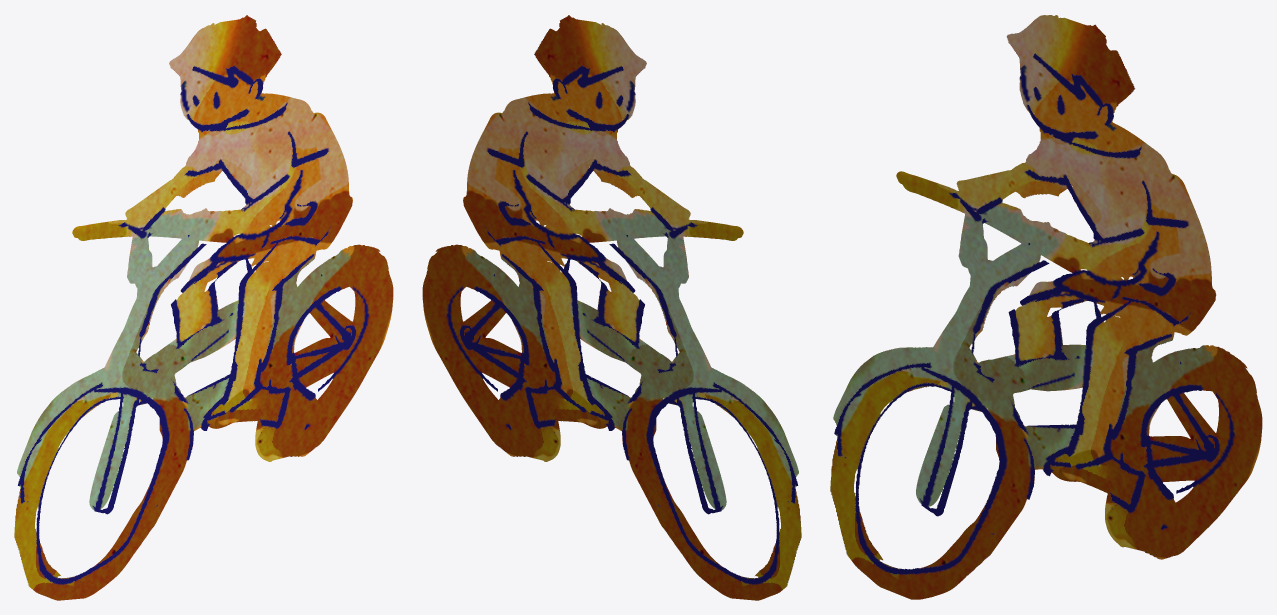
Rendered from people_04.fbx.
3 views of the same model, side by side, from view 1: azimuth 30°, elevation 25°; view 2: azimuth 150°, elevation 25°; view 3: azimuth 330°, elevation 25° (orthographic). The views are drawn at different scales.
Visible parts, largest first — view 1: people_04; view 2: people_04; view 3: people_04.
Boxes of the visible parts, bbox=[...] form: people_04: bbox=[14, 15, 393, 600]; people_04: bbox=[422, 15, 801, 600]; people_04: bbox=[830, 15, 1262, 599].
Size of the model in its own units: 89.18 by 122 by 1.46e-05.
1 material, 1 textured.
